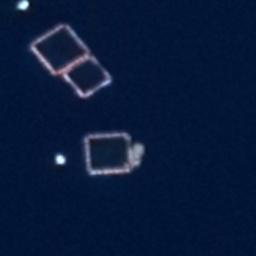square_solid: (24, 18, 95, 80), (80, 128, 139, 180), (60, 51, 117, 101)
